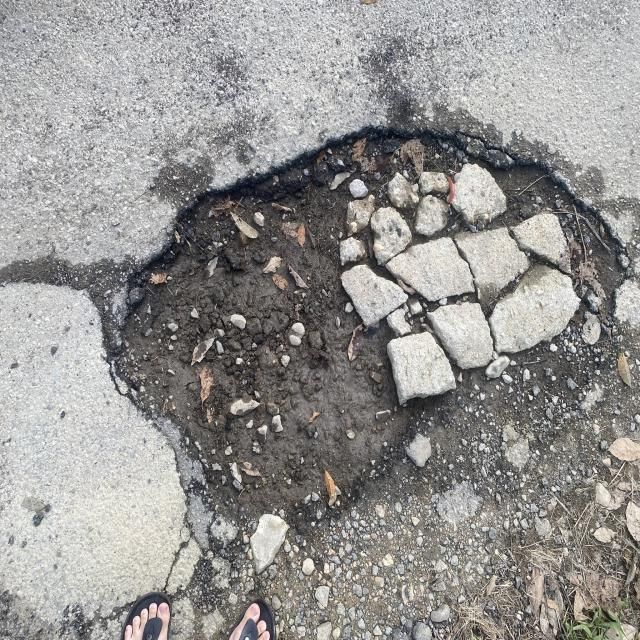Pothole: (46, 72, 640, 498)
